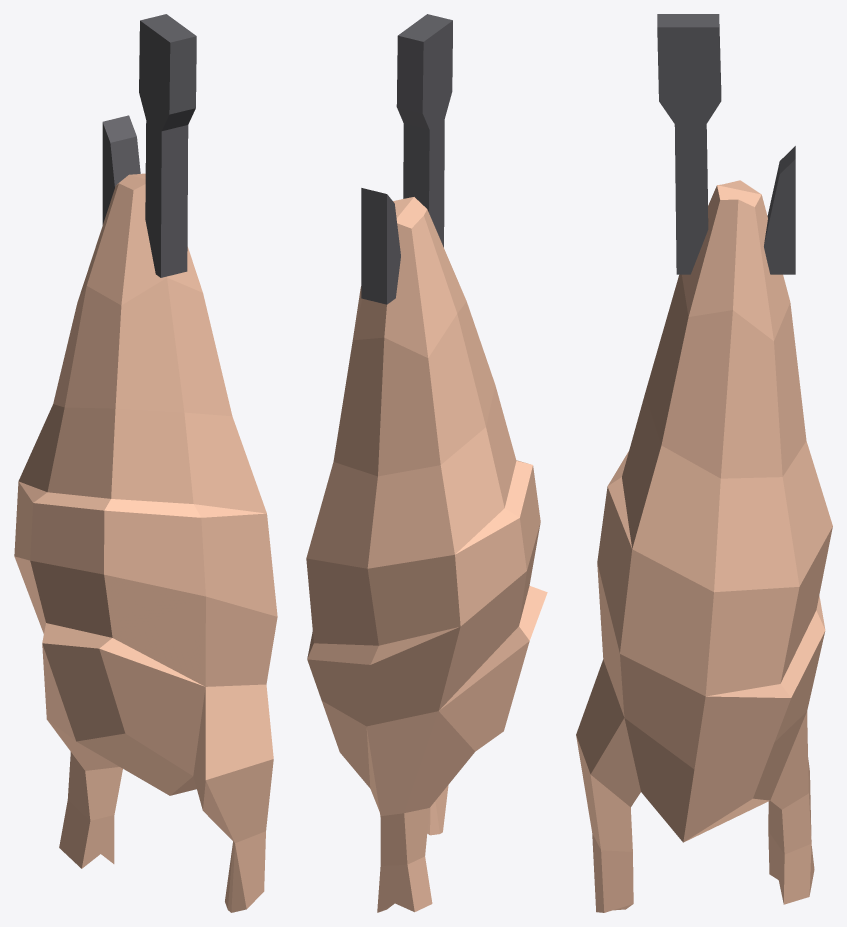
File: city_SM_Prop_Meat_02.gltf
The picture shows the model from 3 angles, left to right: view 1: azimuth 30°, elevation 25°; view 2: azimuth 150°, elevation 25°; view 3: azimuth 270°, elevation 25°; orthographic projection. The views are drawn at different scales.
Parts seen in each view (by area): view 1: SM_Prop_Meat_02; view 2: SM_Prop_Meat_02; view 3: SM_Prop_Meat_02.
Part boxes in pixels (x1,y1,x2,y2): SM_Prop_Meat_02: (14,14,277,912); SM_Prop_Meat_02: (306,14,547,912); SM_Prop_Meat_02: (576,14,832,912).
Size of the model in its own units: 0.3068 by 1.14 by 0.2992.
Materials: 1 (1 with a texture image).
